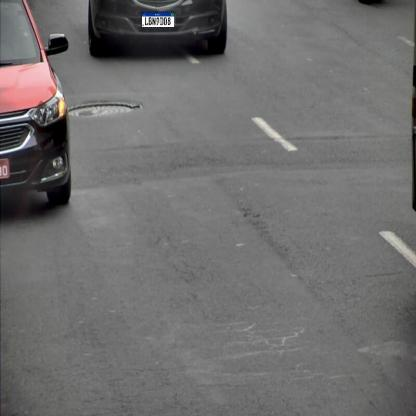PlacaM: (141, 12, 175, 28)
